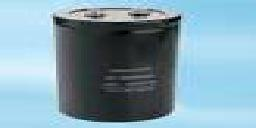Electrolytic-Capacitor: (50, 3, 180, 125)
